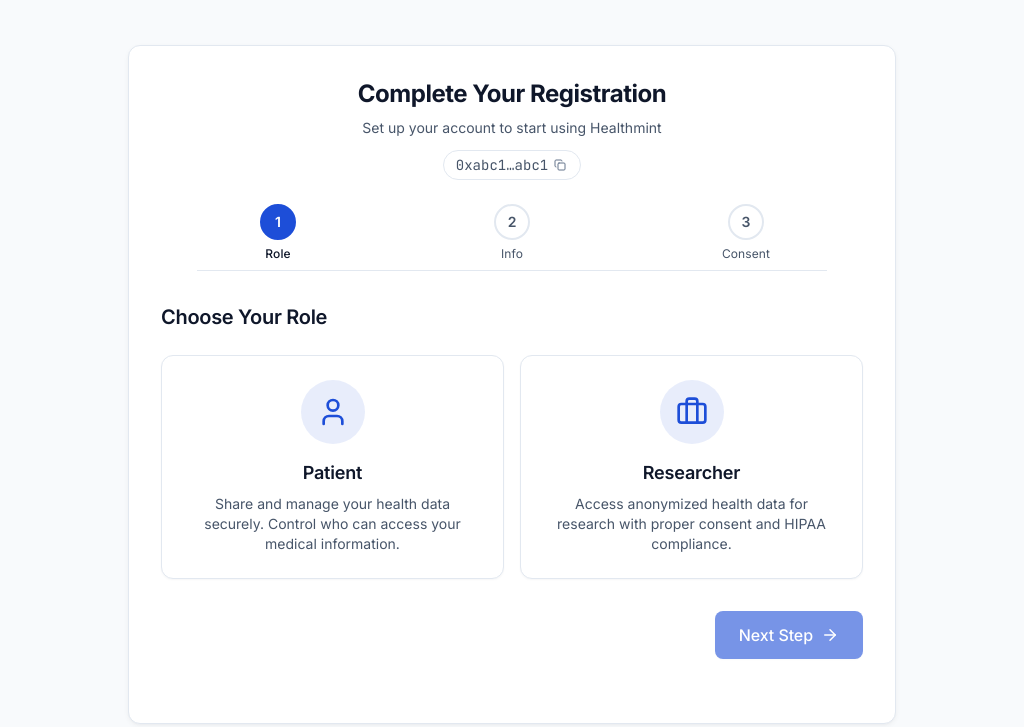
Test: UserRegistration › Step 2 — personal information › renders the personal info form
Click the button "Patient" at (332, 466), box [161,354,504,578]
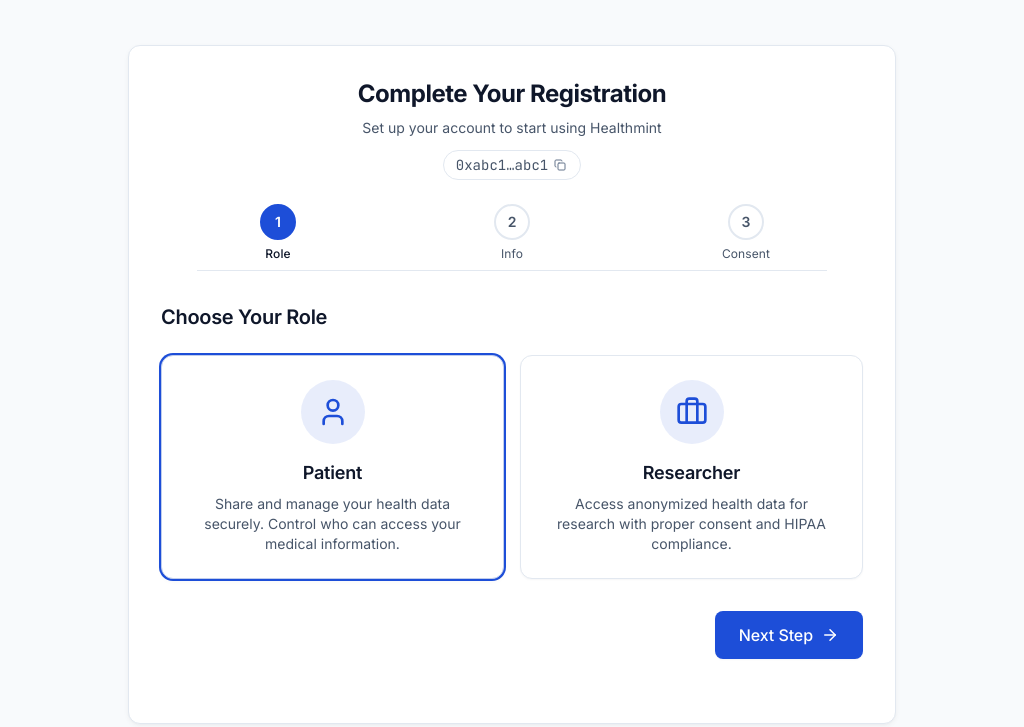
Click the button "Next Step" at (789, 634), box [715,610,863,658]
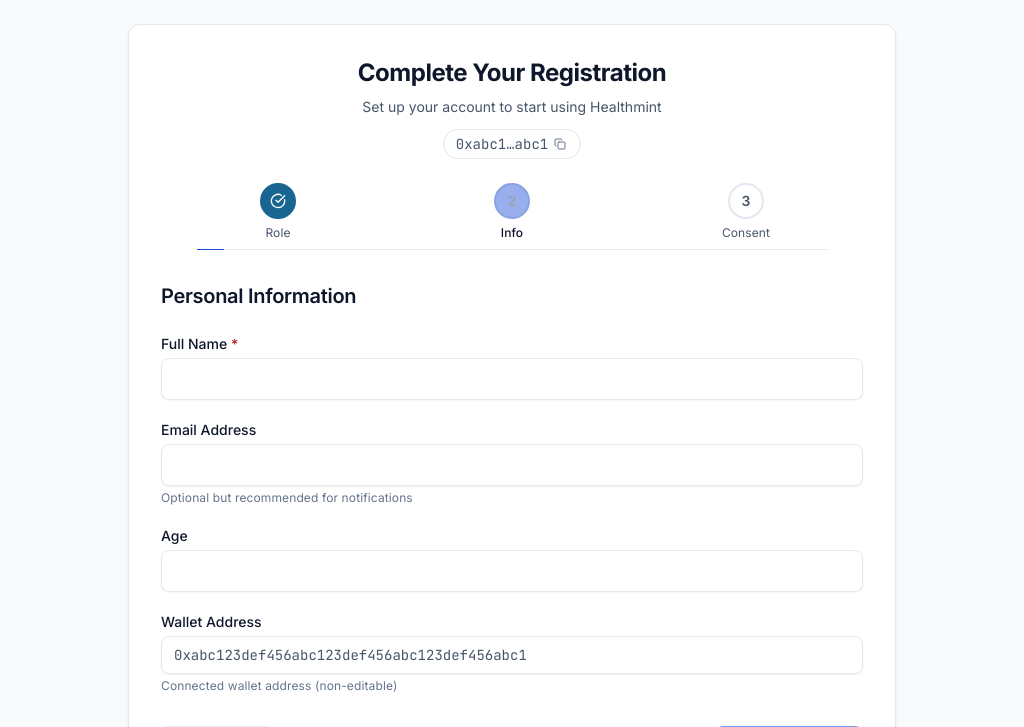
Check: the field labelled "Full Name *" is shown, box [161,358,863,400]
Check: the field labelled "Email Address" is shown, box [161,444,863,486]
